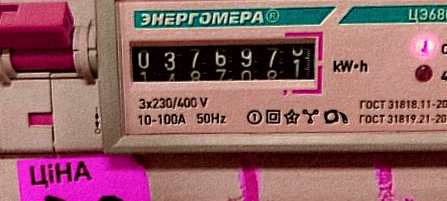0: (135, 48, 151, 69)
1: (291, 57, 303, 79)
3: (162, 49, 177, 72)
6: (214, 46, 227, 67)
7: (188, 45, 202, 70), (265, 45, 279, 68)
9: (239, 46, 252, 68)
screen: (122, 29, 327, 103)
